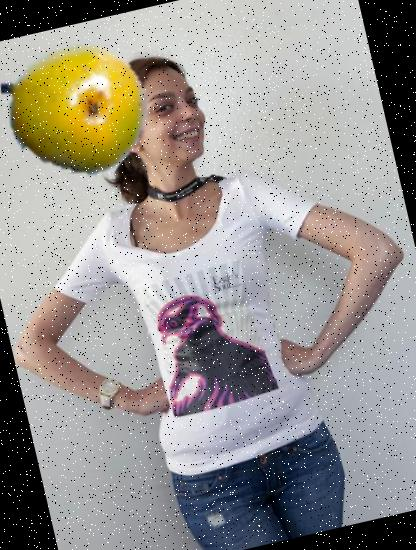Maracuja: (0, 24, 160, 197)
